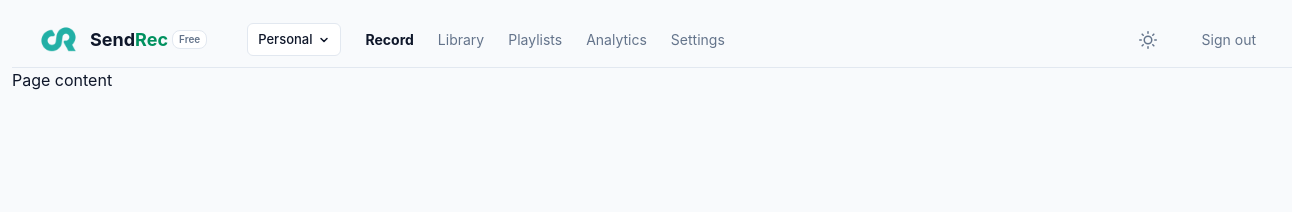
Scenario: Layout › shows error when workspace creation fails
Click the button named "Switch workspace" at coordinates (294, 40), box [247,23,342,56]
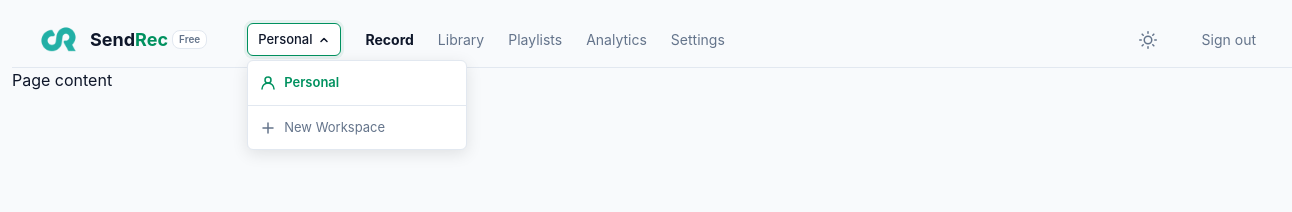
Click the button "New Workspace" at coordinates (357, 128), box [248,110,466,145]
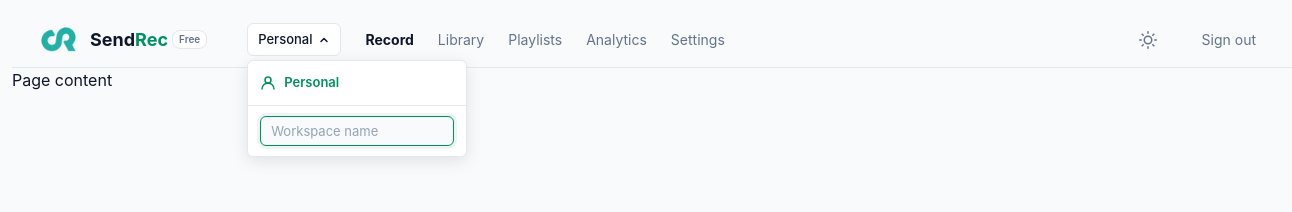
Type "My Team" into the field with placeholder "Workspace name" at coordinates (357, 131), box [260,116,454,146]
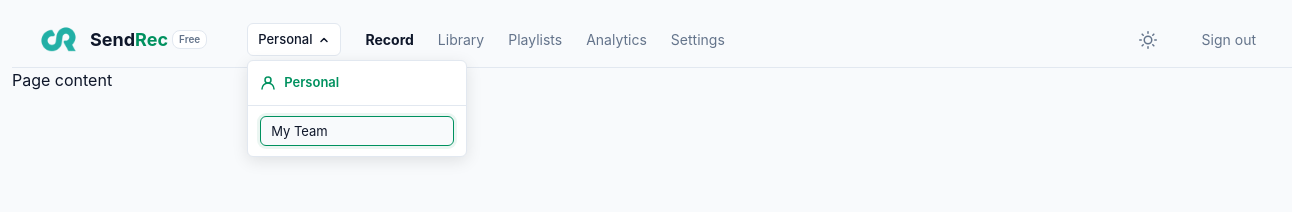
Press Enter
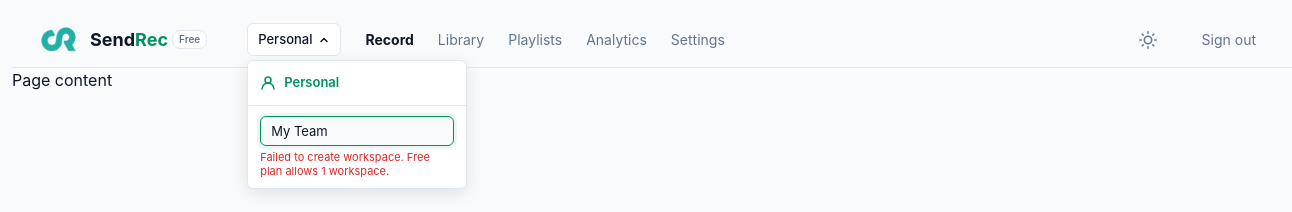
Expected: the text "Failed to create workspace. Free plan allows 1 workspace." is shown, [260,150,454,178]
